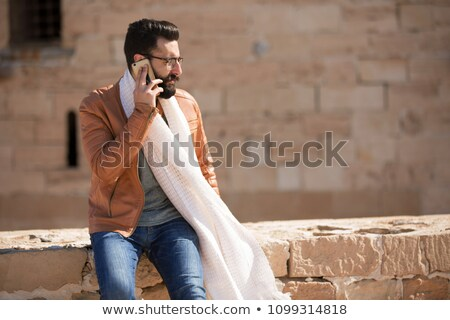phone: (134, 60, 157, 101)
talk: (131, 49, 188, 107)
